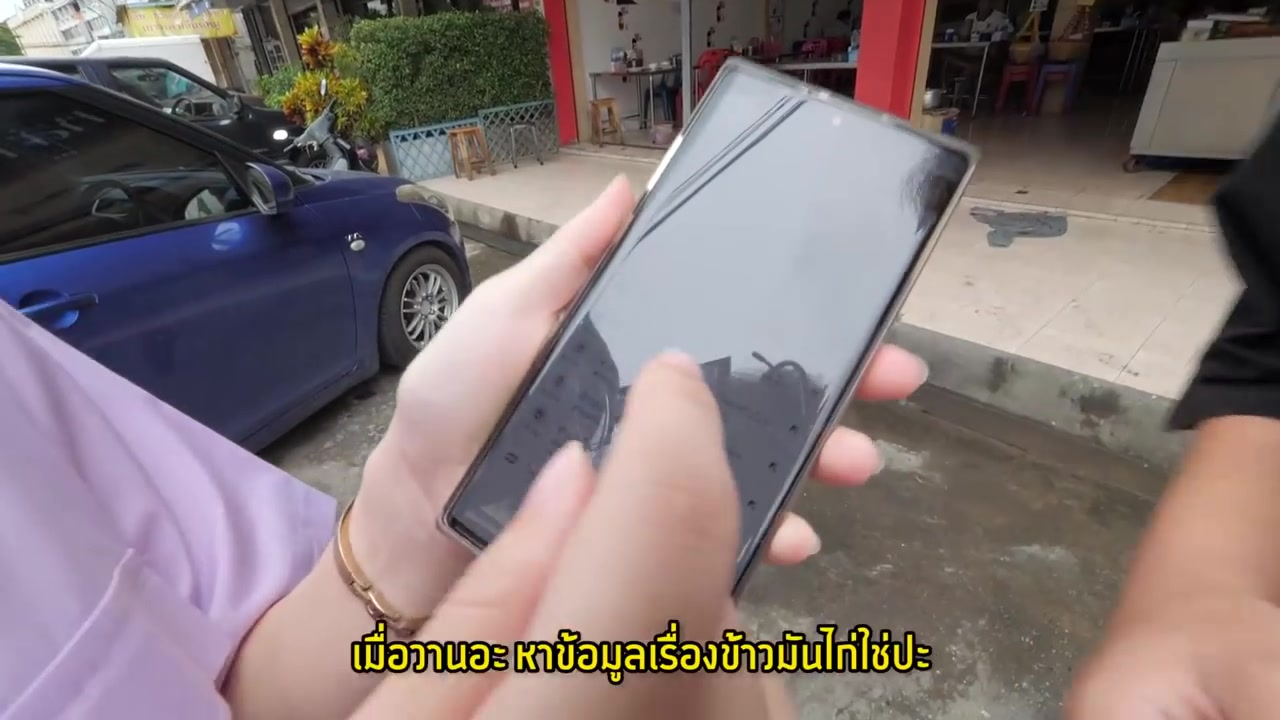text-label: (350, 614, 933, 687)
